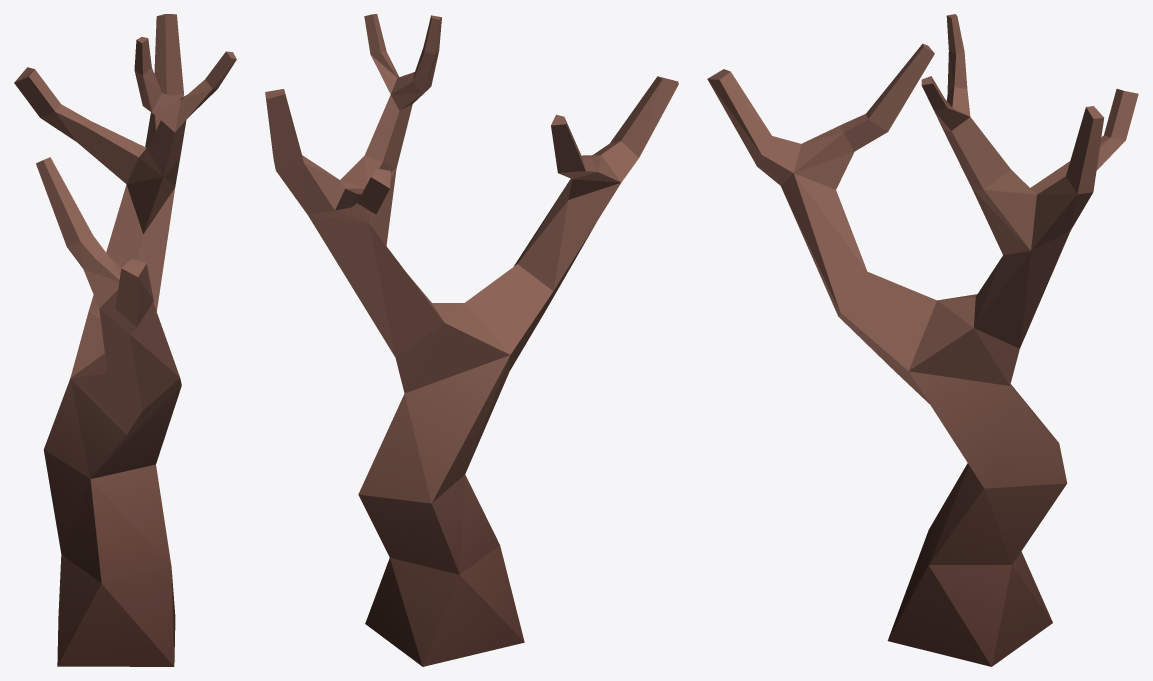
File: OakBark2.fbx
The picture shows the model from 3 angles, left to right: view 1: azimuth 30°, elevation 25°; view 2: azimuth 150°, elevation 25°; view 3: azimuth 270°, elevation 25°; orthographic projection. The views are drawn at different scales.
Visible parts, largest first — view 1: OakBark2; view 2: OakBark2; view 3: OakBark2.
Boxes of the visible parts, x1,y1,x2,y2 form: OakBark2: (14, 14, 236, 666); OakBark2: (265, 14, 678, 666); OakBark2: (707, 14, 1138, 666).
Size of the model in its own units: 150 by 371 by 232.
